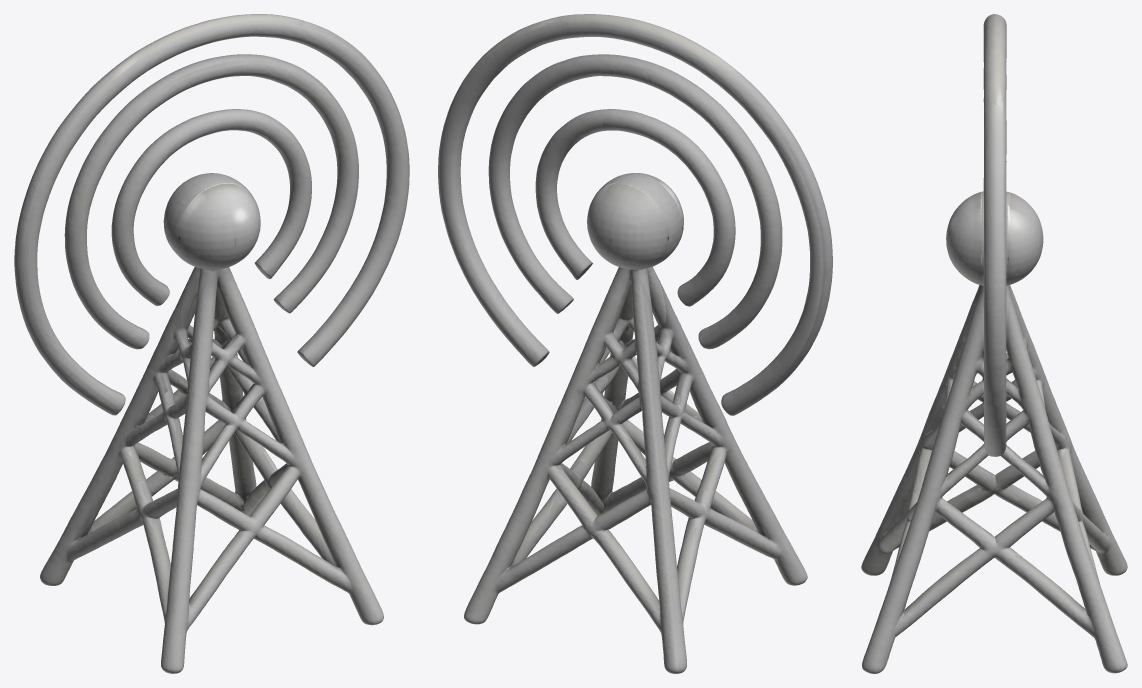
File: hover2.glb
3 renders of one model, left to right at view 1: azimuth 30°, elevation 25°; view 2: azimuth 150°, elevation 25°; view 3: azimuth 270°, elevation 25°, orthographic.
Bounding box in the file's own units: 1.41 × 2 × 0.8247.
1 material, 1 textured.
